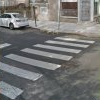crosswalk: (0, 36, 94, 99)
